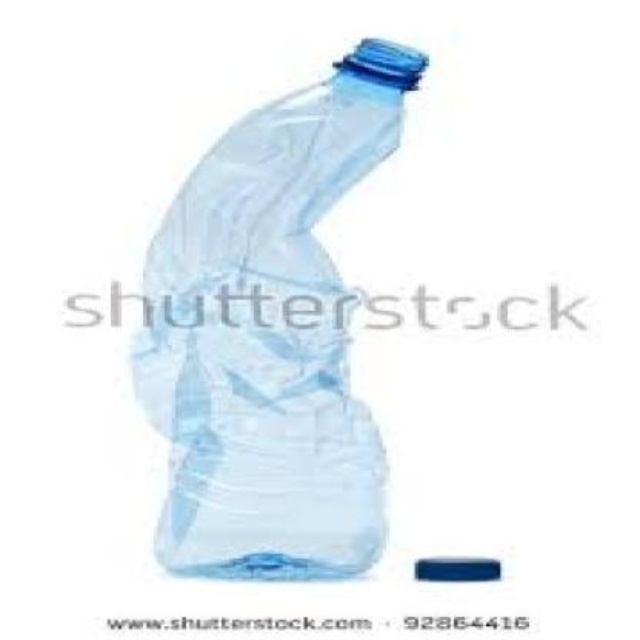trash: (132, 38, 426, 578)
